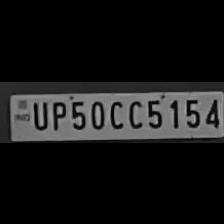0: (88, 97, 106, 129)
1: (165, 96, 181, 128)
4: (202, 95, 222, 127)
5: (67, 96, 87, 130), (144, 96, 164, 128), (182, 94, 200, 128)
C: (106, 97, 124, 129), (125, 96, 143, 128)
P: (47, 98, 66, 130)
U: (29, 98, 48, 130)
